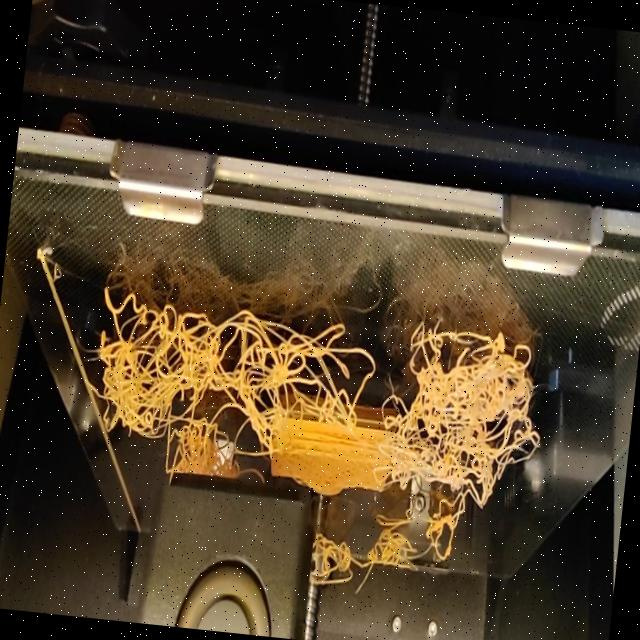spaghetti: (81, 284, 552, 514), (299, 481, 488, 611)
